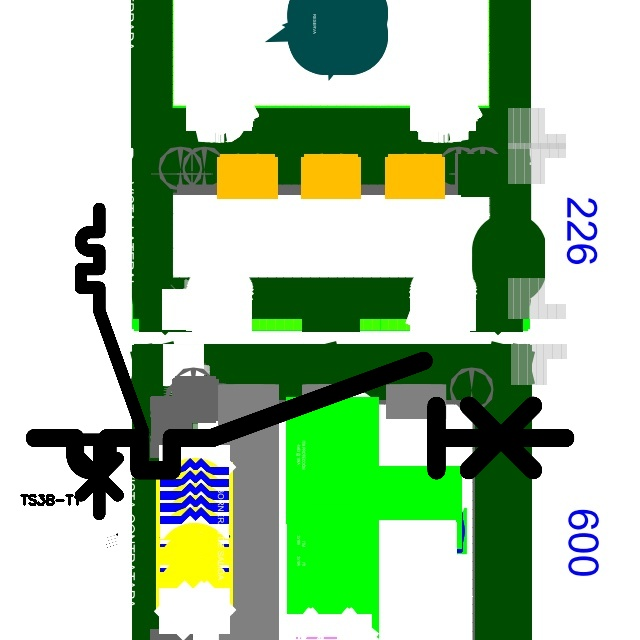interruptor_termomagnetico: (21, 347, 579, 484), (73, 201, 151, 522)
